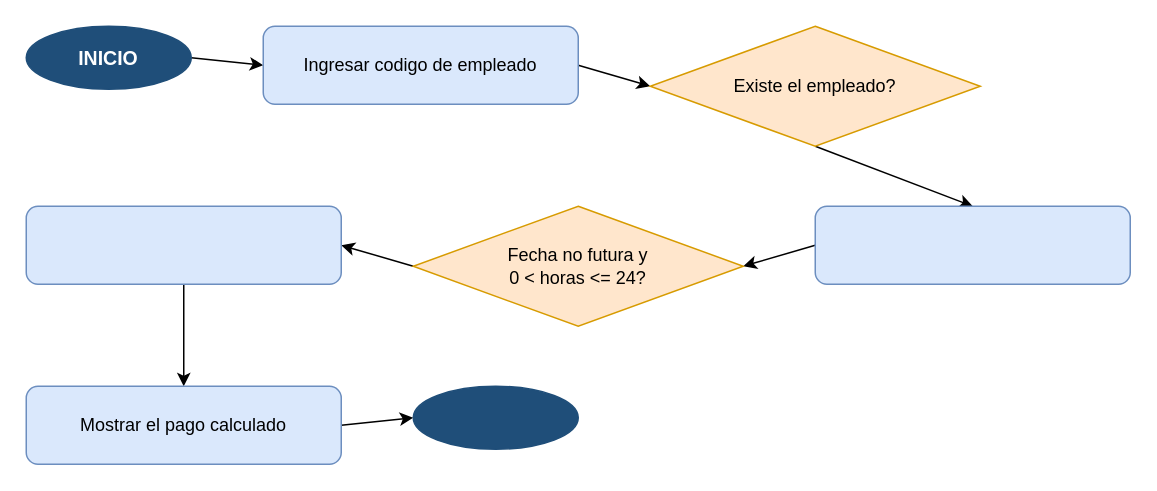
Image size: 1157x491. Some labels were removed from this diagram. Each missing label, with the centre of its shape:
"Crear HoraExtra y SolicitudHoraExtra" belongs at point (183, 244).
"FIN" belongs at point (495, 417).
"Ingresar fecha, horas y motivo" belongs at point (972, 244).
